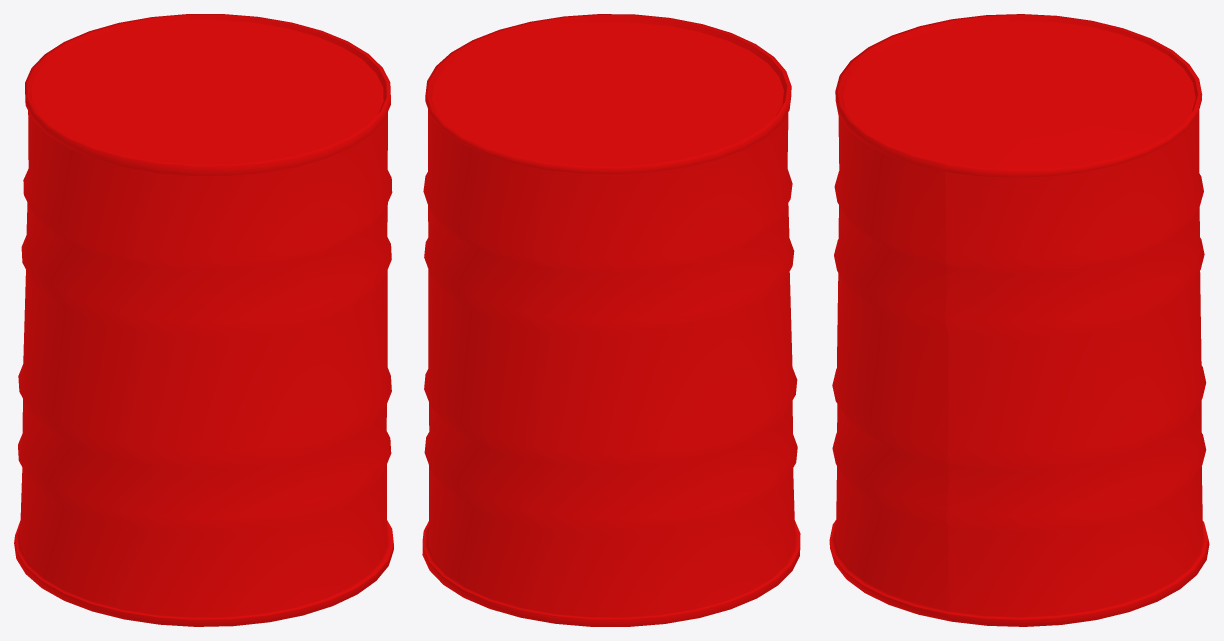
The model's file is SM_Barrel_04_Closed.glb.
3 renders of one model, left to right at view 1: azimuth 30°, elevation 25°; view 2: azimuth 150°, elevation 25°; view 3: azimuth 270°, elevation 25°, orthographic.
Parts seen in each view (by area): view 1: SM_Barrel_04_Closed_LOD0; view 2: SM_Barrel_04_Closed_LOD0; view 3: SM_Barrel_04_Closed_LOD0.
Part boxes in pixels (x1,y1,x2,y2): SM_Barrel_04_Closed_LOD0: [14, 14, 393, 626]; SM_Barrel_04_Closed_LOD0: [422, 14, 800, 626]; SM_Barrel_04_Closed_LOD0: [829, 14, 1209, 626].
Bounding box in the file's own units: 0.3791 × 0.5042 × 0.3798.
